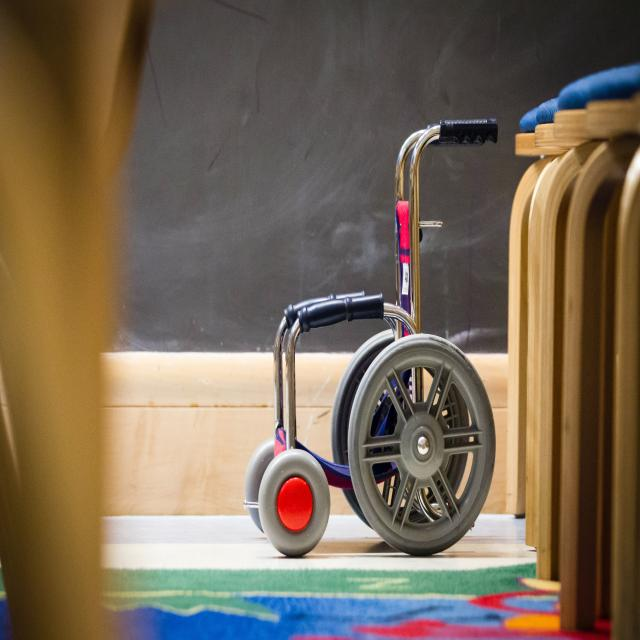wheelchairs: (254, 108, 500, 554)
